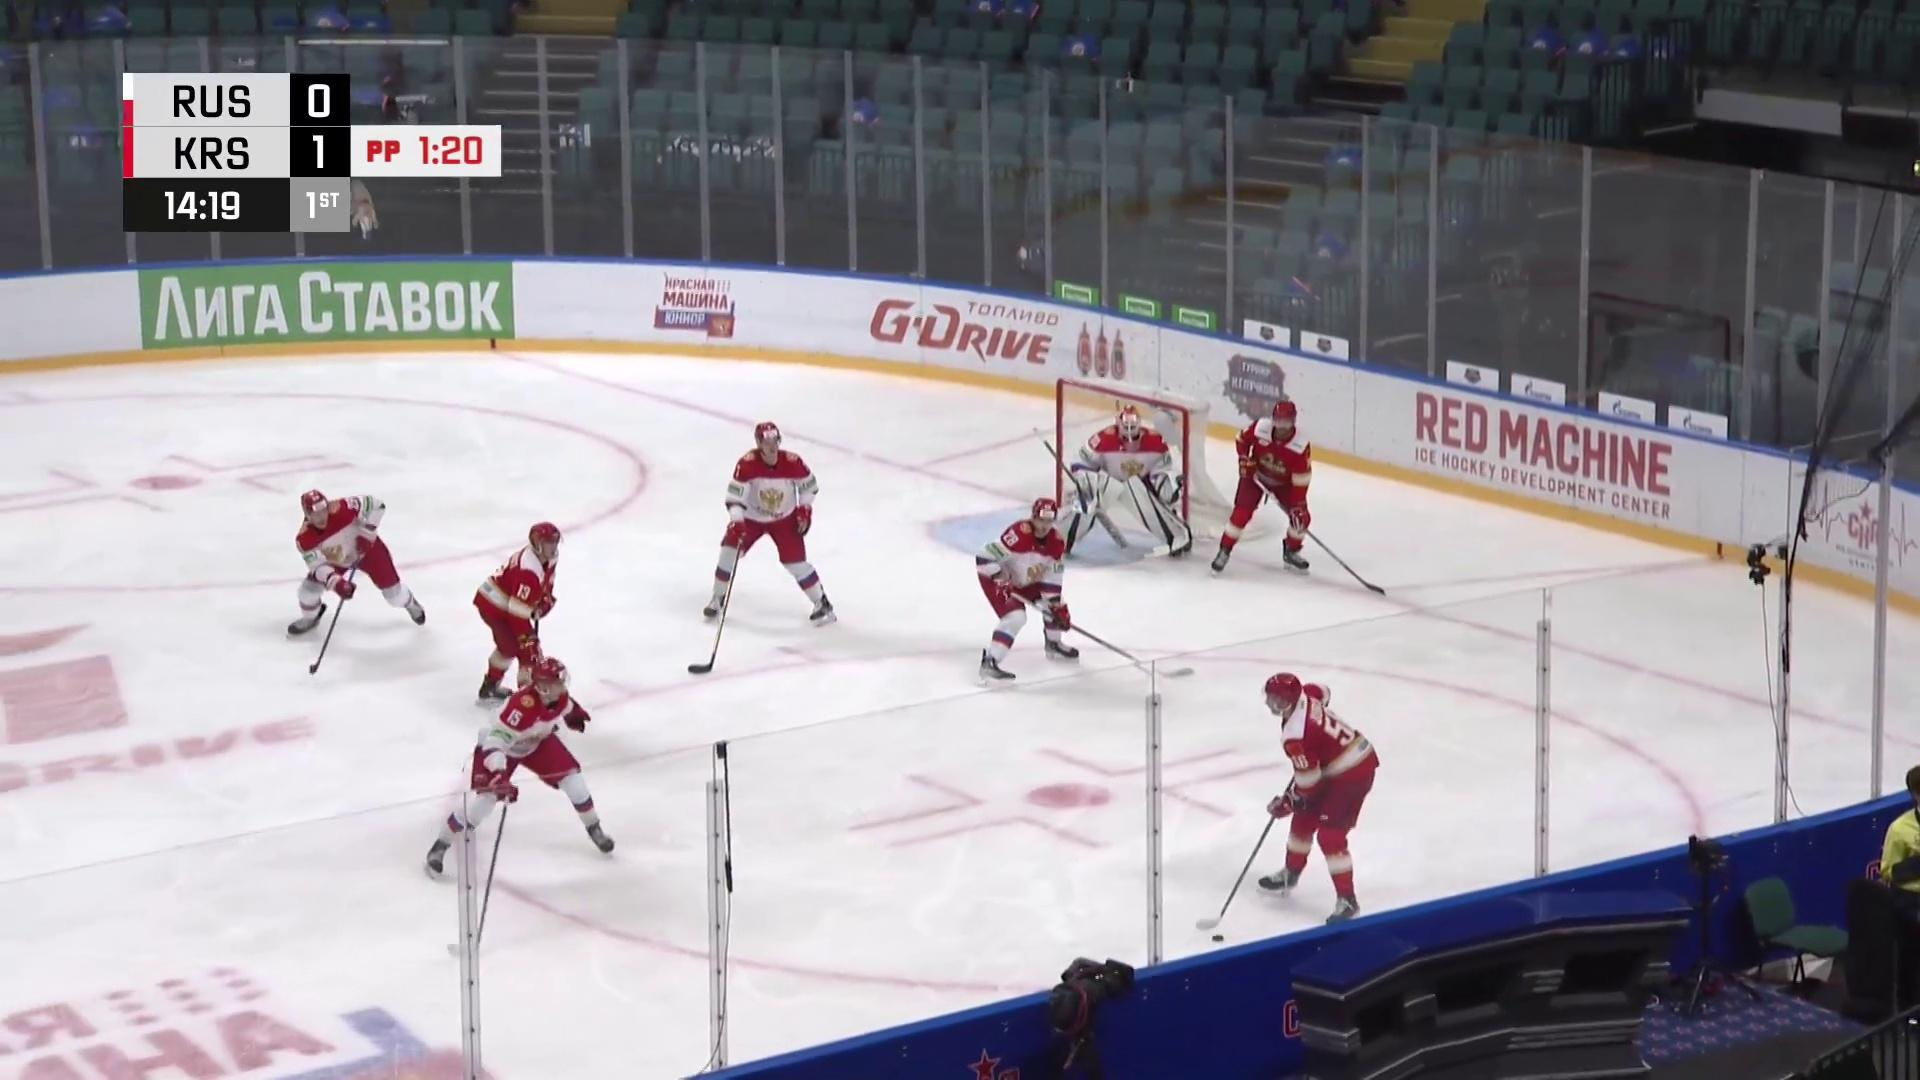ball: (1209, 934, 1228, 944)
